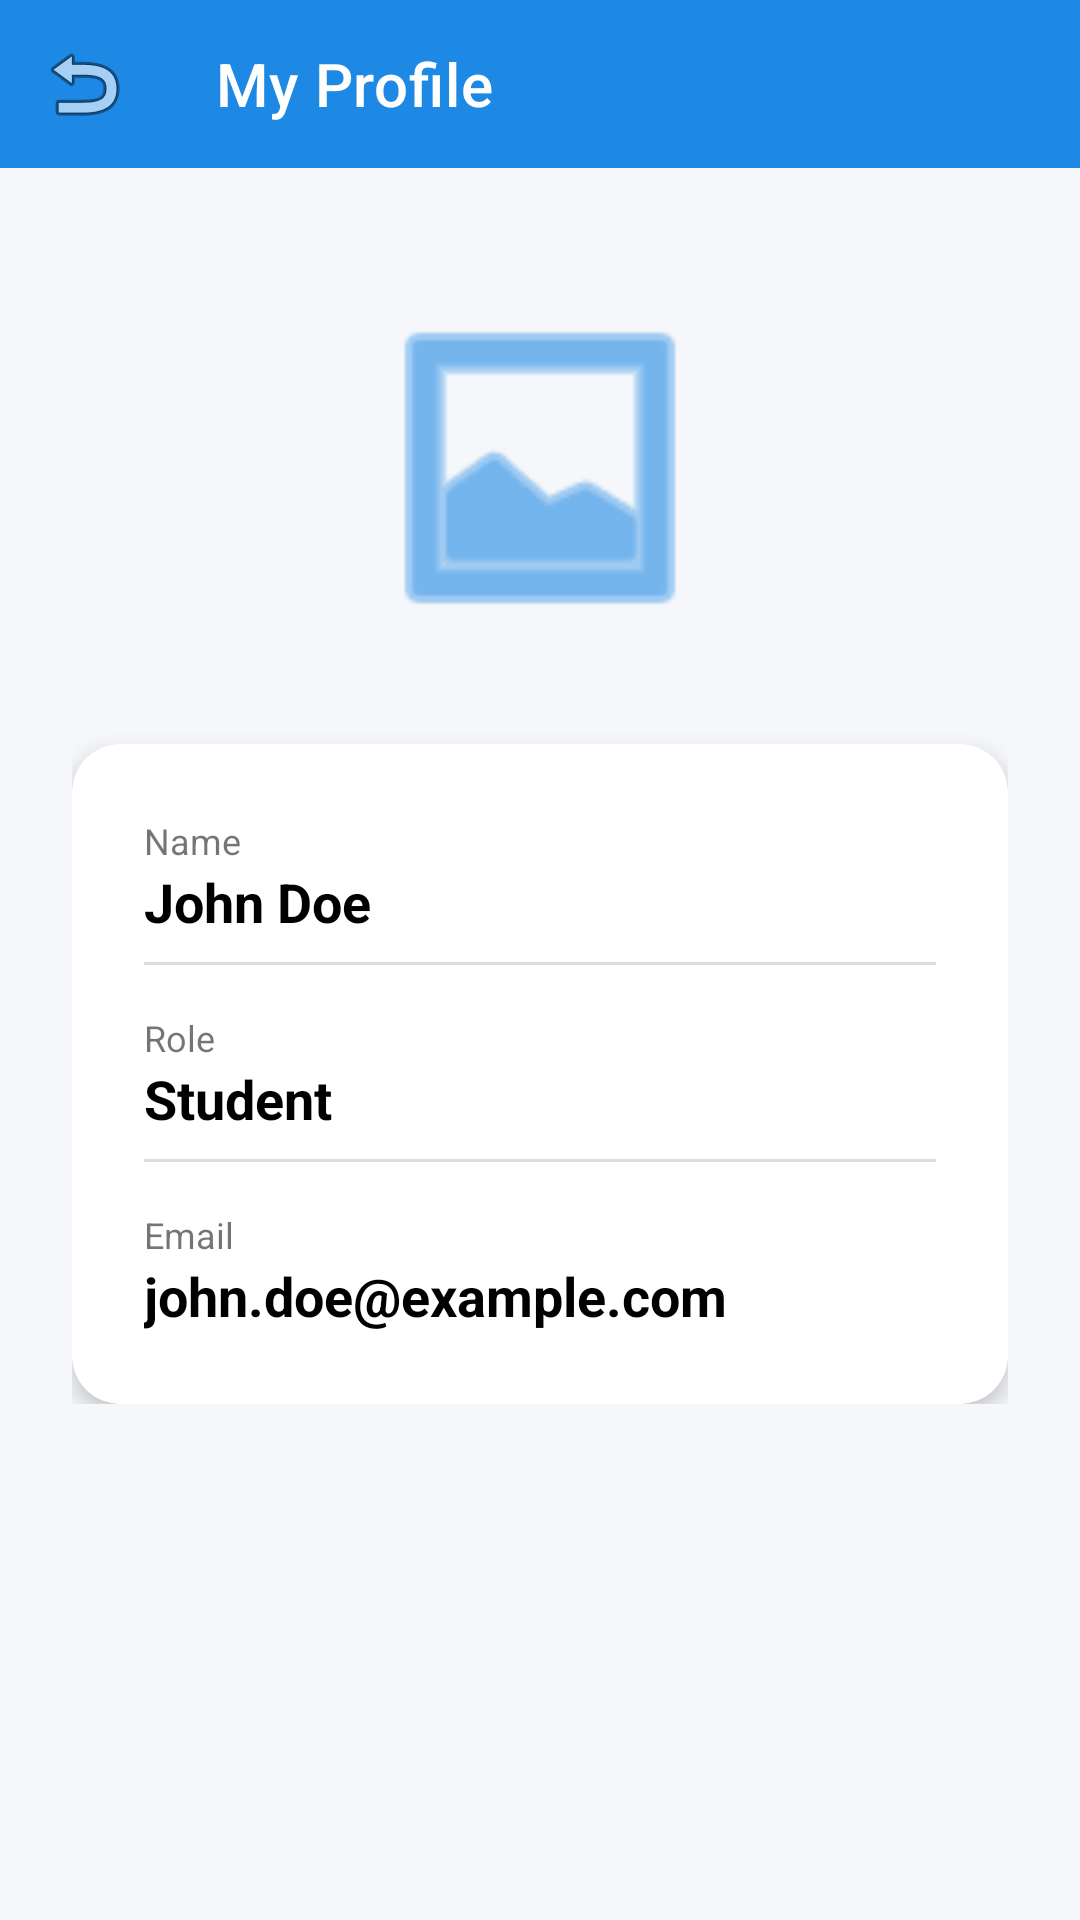

Icons on this 1080 × 1920 Android screen, each with the point to tap as point (x, y):
gallery: point (540, 468)
